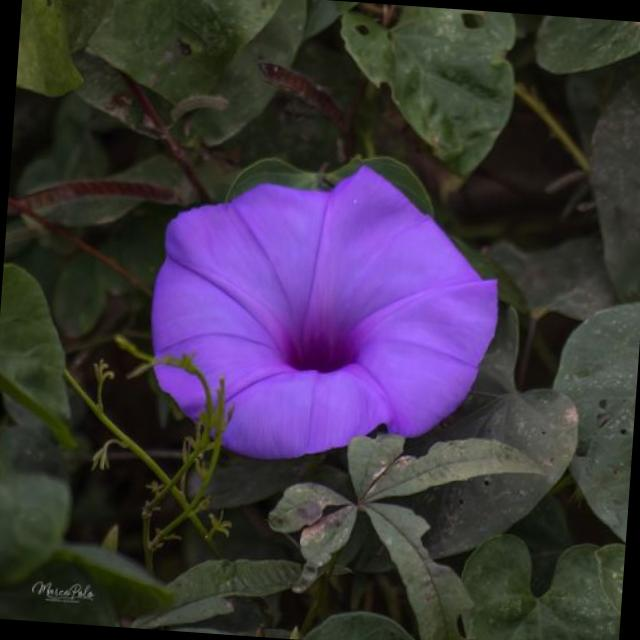ipomoea: (136, 147, 511, 478)
